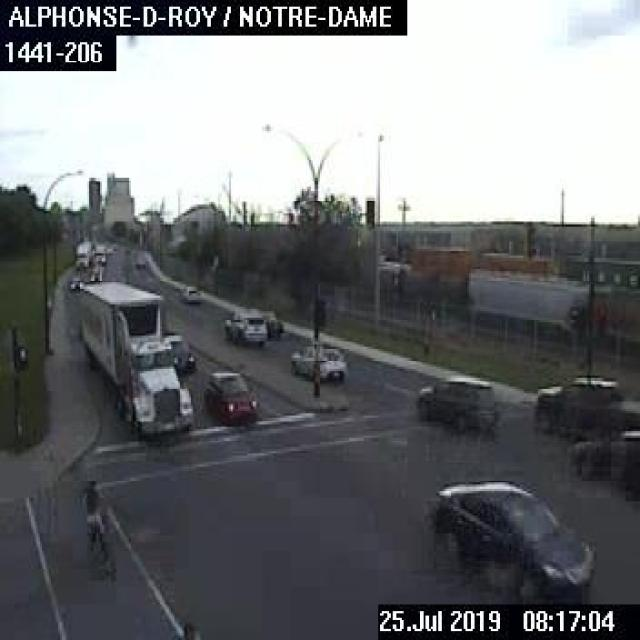cyclist: (79, 474, 110, 569)
pedestrian: (176, 622, 200, 638)
vehicle: (429, 480, 596, 602), (76, 280, 198, 433), (413, 371, 498, 433), (532, 373, 614, 429), (567, 424, 638, 484), (200, 369, 260, 424), (284, 344, 349, 382), (222, 304, 265, 346), (162, 331, 196, 377), (262, 307, 284, 341), (72, 239, 91, 269), (182, 284, 200, 300), (68, 275, 82, 291), (91, 249, 105, 263), (89, 266, 100, 280), (135, 255, 143, 267)
